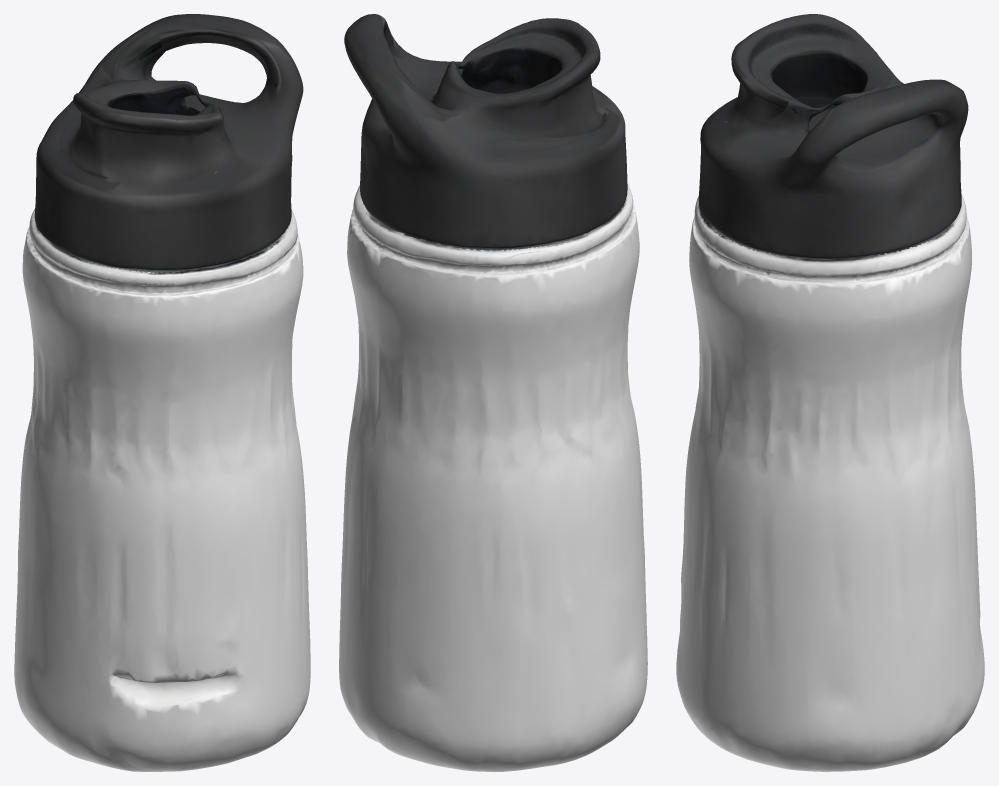
File: Product 3D Model.glb
3 renders of one model, left to right at view 1: azimuth 30°, elevation 25°; view 2: azimuth 150°, elevation 25°; view 3: azimuth 270°, elevation 25°, orthographic. The views are drawn at different scales.
Bounding box in the file's own units: 0.8283 × 2 × 0.8243.
Materials: 1 (1 with a texture image).
